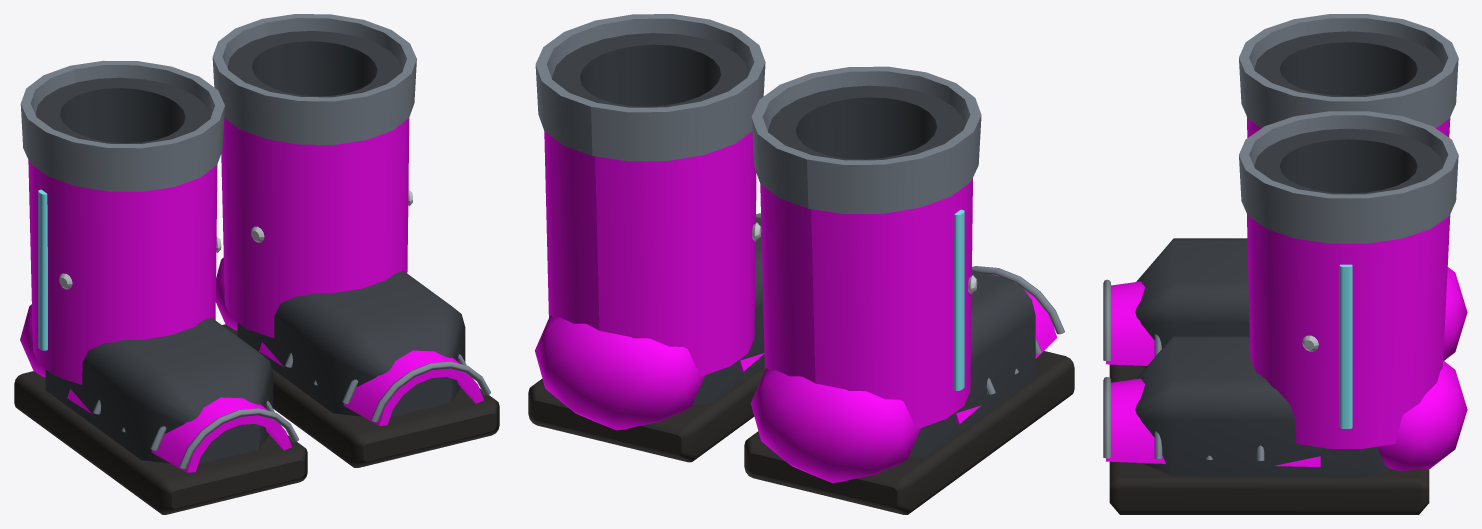
File: objet_armure4_bottes.glb
3 renders of one model, left to right at view 1: azimuth 30°, elevation 25°; view 2: azimuth 150°, elevation 25°; view 3: azimuth 270°, elevation 25°, orthographic. The views are drawn at different scales.
Parts seen in each view (by area): view 1: jambe_g__bottes_armure_teinte.010, jambe_d__bottes_armure_teinte.010, pied_d__bottes_armure_teinte_sombre.008, pied_g__bottes_armure_teinte_sombre.008, jambe_d__bottes_armure_acier_lisere.002, jambe_g__bottes_armure_acier_lisere.002, pied_d__bottes_armure_semelle.008, pied_g__bottes_armure_semelle.008, jambe_g__bottes_armure_teinte_sombre.008, jambe_d__bottes_armure_teinte_sombre.008, pied_d__bottes_armure_teinte.010, pied_g__bottes_armure_teinte.010 (+3 smaller); view 2: jambe_g__bottes_armure_teinte.010, jambe_d__bottes_armure_teinte.010, jambe_d__bottes_armure_acier_lisere.002, jambe_g__bottes_armure_acier_lisere.002, pied_d__bottes_armure_teinte.010, pied_g__bottes_armure_teinte.010, pied_d__bottes_armure_semelle.008, jambe_d__bottes_armure_teinte_sombre.008, jambe_g__bottes_armure_teinte_sombre.008, pied_d__bottes_armure_teinte_sombre.008, pied_g__bottes_armure_semelle.008, pied_g__bottes_armure_teinte_sombre.008 (+2 smaller); view 3: jambe_g__bottes_armure_teinte.010, pied_g__bottes_armure_teinte_sombre.008, jambe_g__bottes_armure_acier_lisere.002, pied_g__bottes_armure_semelle.008, jambe_d__bottes_armure_acier_lisere.002, pied_d__bottes_armure_teinte_sombre.008, jambe_g__bottes_armure_teinte_sombre.008, jambe_d__bottes_armure_teinte_sombre.008, pied_g__bottes_armure_teinte.010, pied_d__bottes_armure_teinte.010, jambe_g__bottes_armure_lueur.002, pied_g__bottes_armure_acier_lisere.002 (+2 smaller).
Boxes of the visible parts, left/top/right/bottom form: jambe_g__bottes_armure_teinte.010: left=221, top=118, right=409, bottom=337; jambe_d__bottes_armure_teinte.010: left=28, top=160, right=217, bottom=384; pied_d__bottes_armure_teinte_sombre.008: left=45, top=317, right=273, bottom=463; pied_g__bottes_armure_teinte_sombre.008: left=237, top=270, right=465, bottom=417; jambe_d__bottes_armure_acier_lisere.002: left=20, top=60, right=224, bottom=191; jambe_g__bottes_armure_acier_lisere.002: left=212, top=14, right=416, bottom=144; pied_d__bottes_armure_semelle.008: left=14, top=371, right=307, bottom=514; pied_g__bottes_armure_semelle.008: left=222, top=324, right=499, bottom=467; jambe_g__bottes_armure_teinte_sombre.008: left=227, top=31, right=402, bottom=97; jambe_d__bottes_armure_teinte_sombre.008: left=35, top=77, right=210, bottom=143; pied_d__bottes_armure_teinte.010: left=20, top=304, right=291, bottom=472; pied_g__bottes_armure_teinte.010: left=215, top=257, right=483, bottom=425; jambe_g__bottes_armure_teinte.010: left=544, top=131, right=756, bottom=376; jambe_d__bottes_armure_teinte.010: left=760, top=178, right=972, bottom=428; jambe_d__bottes_armure_acier_lisere.002: left=751, top=66, right=981, bottom=213; jambe_g__bottes_armure_acier_lisere.002: left=535, top=14, right=765, bottom=161; pied_d__bottes_armure_teinte.010: left=750, top=274, right=1057, bottom=482; pied_g__bottes_armure_teinte.010: left=535, top=315, right=764, bottom=430; pied_d__bottes_armure_semelle.008: left=744, top=351, right=1074, bottom=514; jambe_d__bottes_armure_teinte_sombre.008: left=768, top=85, right=964, bottom=160; jambe_g__bottes_armure_teinte_sombre.008: left=552, top=33, right=748, bottom=107; pied_d__bottes_armure_teinte_sombre.008: left=908, top=270, right=1035, bottom=457; pied_g__bottes_armure_semelle.008: left=528, top=365, right=764, bottom=462; pied_g__bottes_armure_teinte_sombre.008: left=692, top=217, right=764, bottom=405; jambe_g__bottes_armure_teinte.010: left=1247, top=214, right=1450, bottom=448; pied_g__bottes_armure_teinte_sombre.008: left=1135, top=335, right=1389, bottom=476; jambe_g__bottes_armure_acier_lisere.002: left=1239, top=111, right=1458, bottom=243; pied_g__bottes_armure_semelle.008: left=1109, top=461, right=1429, bottom=514; jambe_d__bottes_armure_acier_lisere.002: left=1239, top=14, right=1458, bottom=128; pied_d__bottes_armure_teinte_sombre.008: left=1135, top=238, right=1249, bottom=367; jambe_g__bottes_armure_teinte_sombre.008: left=1254, top=128, right=1443, bottom=194; jambe_d__bottes_armure_teinte_sombre.008: left=1254, top=31, right=1443, bottom=96; pied_g__bottes_armure_teinte.010: left=1106, top=360, right=1467, bottom=470; pied_d__bottes_armure_teinte.010: left=1106, top=267, right=1467, bottom=365; jambe_g__bottes_armure_lueur.002: left=1339, top=264, right=1352, bottom=428; pied_g__bottes_armure_acier_lisere.002: left=1103, top=377, right=1264, bottom=460.
Size of the model in its own units: 0.2561 by 0.213 by 0.2138.
